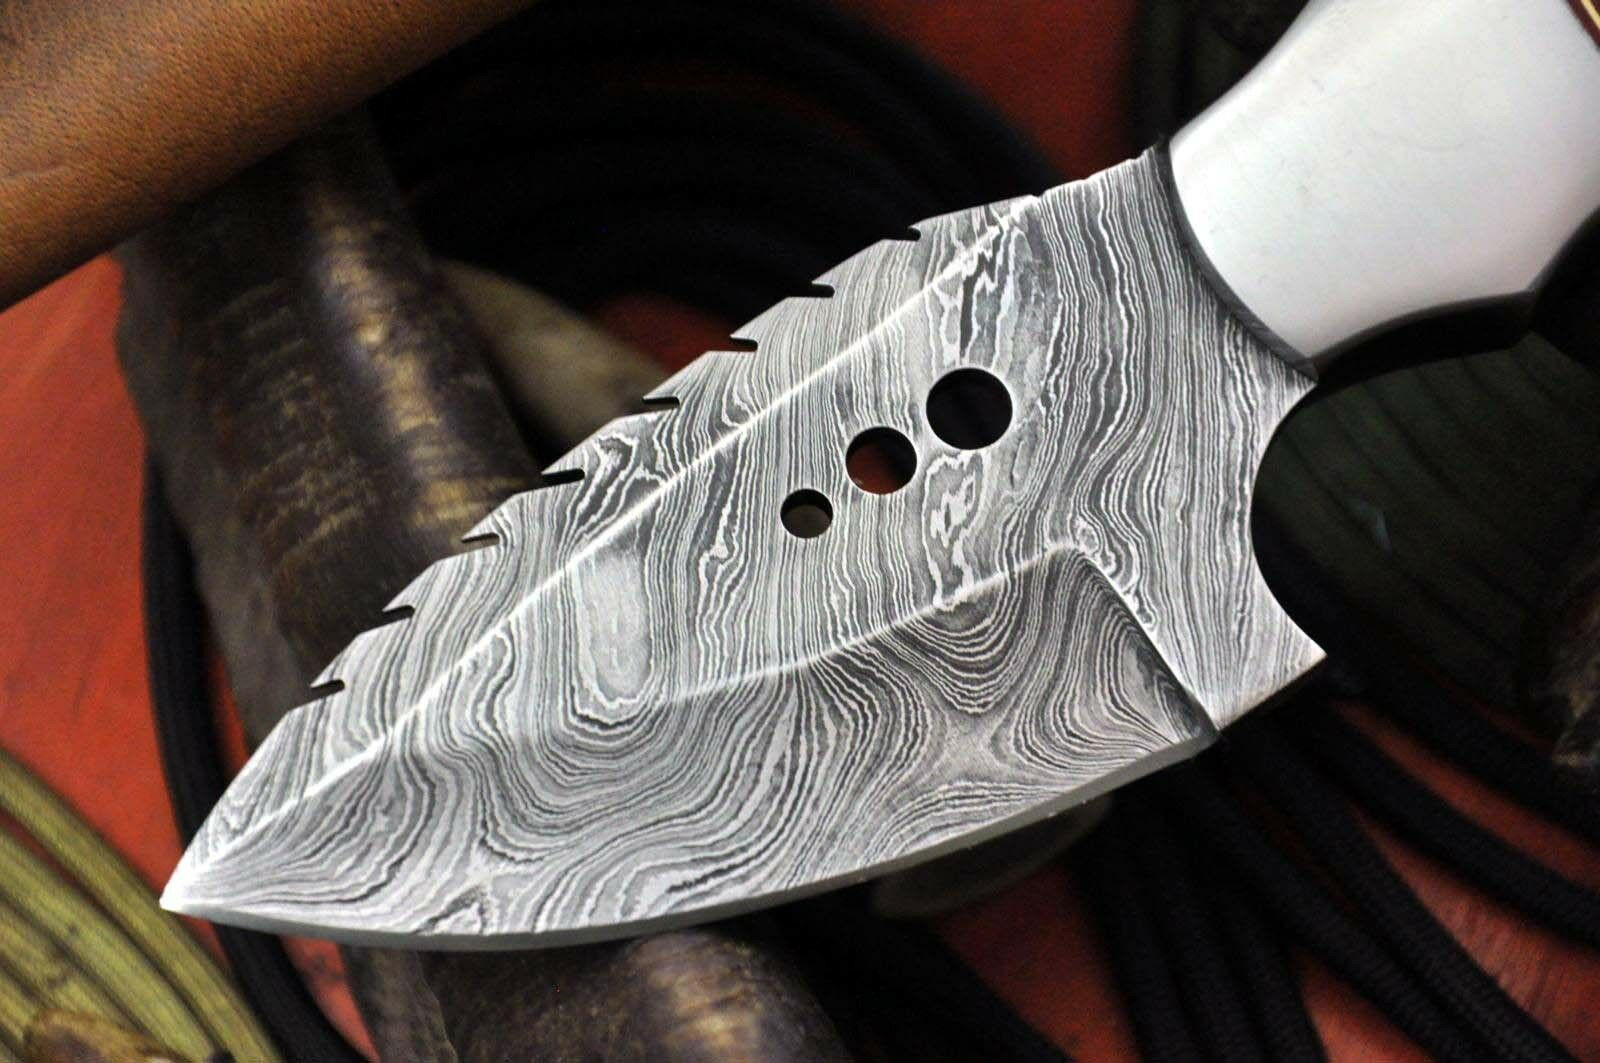knief: (127, 1, 1600, 916)
